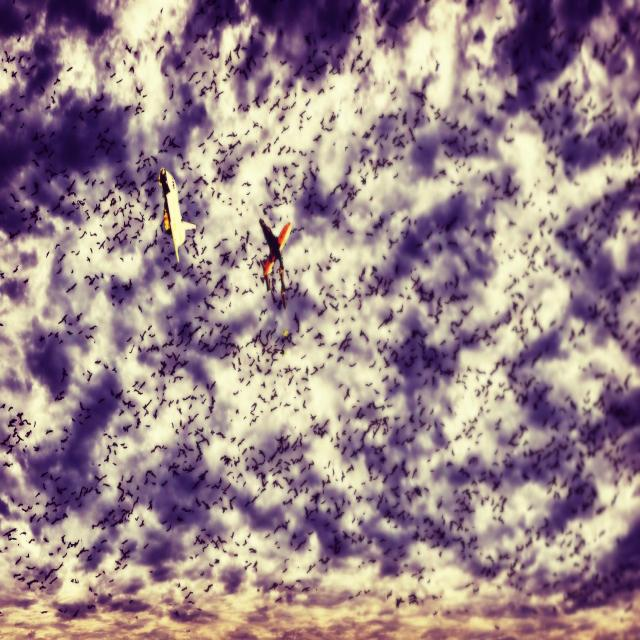airplane: (157, 166, 196, 264), (258, 217, 291, 309)
